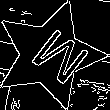M_SW: (14, 20, 85, 89)
